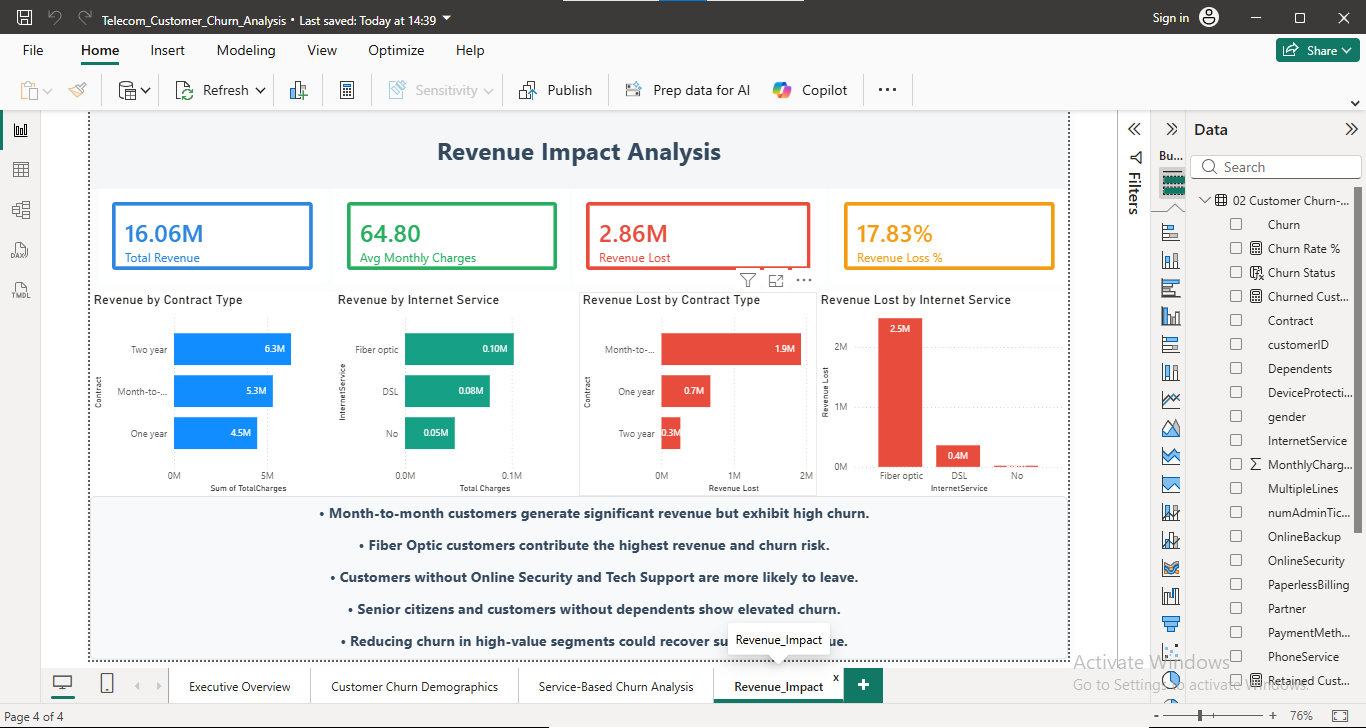

This screenshot's page, from the dashboard's own definition file:
{"tool":"powerbi","page":{"name":"Revenue_Impact","canvas":[1280,720],"ordinal":3},"visuals":[{"type":"cardVisual","fields":{"Data":["Parameter.Total Revenue"]},"box":[11.2,103.4,297.8,123.4],"z":0},{"type":"cardVisual","fields":{"Data":["Parameter.Avg Monthly Charges"]},"box":[319,103.4,309,123.4],"z":1000},{"type":"cardVisual","fields":{"Data":["Parameter.Revenue Lost"]},"box":[631.8,103.4,329,123.4],"z":2000},{"type":"cardVisual","fields":{"Data":["Parameter.Revenue Loss %"]},"box":[969.5,103.4,310.3,123.4],"z":3000},{"type":"clusteredBarChart","title":"Revenue by Contract Type","fields":{"Category":["WA_Fn-UseC_-Telco-Customer-Churn.Contract"],"Y":["Sum(WA_Fn-UseC_-Telco-Customer-Churn.TotalCharges)"]},"box":[0,238,319,267.9],"z":4000},{"type":"clusteredBarChart","title":"Revenue by Internet Service","fields":{"Category":["WA_Fn-UseC_-Telco-Customer-Churn.InternetService"],"Y":["Sum(WA_Fn-UseC_-Telco-Customer-Churn.tenure)"]},"box":[319,238,321.5,267.9],"z":5000},{"type":"clusteredBarChart","title":"Revenue Lost by Contract Type","fields":{"Category":["WA_Fn-UseC_-Telco-Customer-Churn.Contract"],"Y":["Parameter.Revenue Lost"]},"box":[640.5,238,311.5,267.9],"z":6000},{"type":"clusteredColumnChart","title":"Revenue Lost by Internet Service","fields":{"Category":["WA_Fn-UseC_-Telco-Customer-Churn.InternetService"],"Y":["Parameter.Revenue Lost"]},"box":[952,238,327.7,267.9],"z":7000},{"type":"textbox","box":[0,505.9,1279.8,214.3],"z":8000},{"type":"textbox","box":[0,0,1279.8,103.4],"z":9000}]}

Visuals, with their boxes on the page's 1280x720 design canvas (x1, y1, x2, y2). These are canvas units, not pixel positions in the 1366x728 screenshot, which may show the page scaled, cropped or inside an application window:
cardVisual - Parameter.Total Revenue: {"left": 11, "top": 103, "right": 309, "bottom": 227}
cardVisual - Parameter.Avg Monthly Charges: {"left": 319, "top": 103, "right": 628, "bottom": 227}
cardVisual - Parameter.Revenue Lost: {"left": 632, "top": 103, "right": 961, "bottom": 227}
cardVisual - Parameter.Revenue Loss %: {"left": 970, "top": 103, "right": 1280, "bottom": 227}
"Revenue by Contract Type" clusteredBarChart: {"left": 0, "top": 238, "right": 319, "bottom": 506}
"Revenue by Internet Service" clusteredBarChart: {"left": 319, "top": 238, "right": 640, "bottom": 506}
"Revenue Lost by Contract Type" clusteredBarChart: {"left": 640, "top": 238, "right": 952, "bottom": 506}
"Revenue Lost by Internet Service" clusteredColumnChart: {"left": 952, "top": 238, "right": 1280, "bottom": 506}
textbox: {"left": 0, "top": 506, "right": 1280, "bottom": 720}
textbox: {"left": 0, "top": 0, "right": 1280, "bottom": 103}
